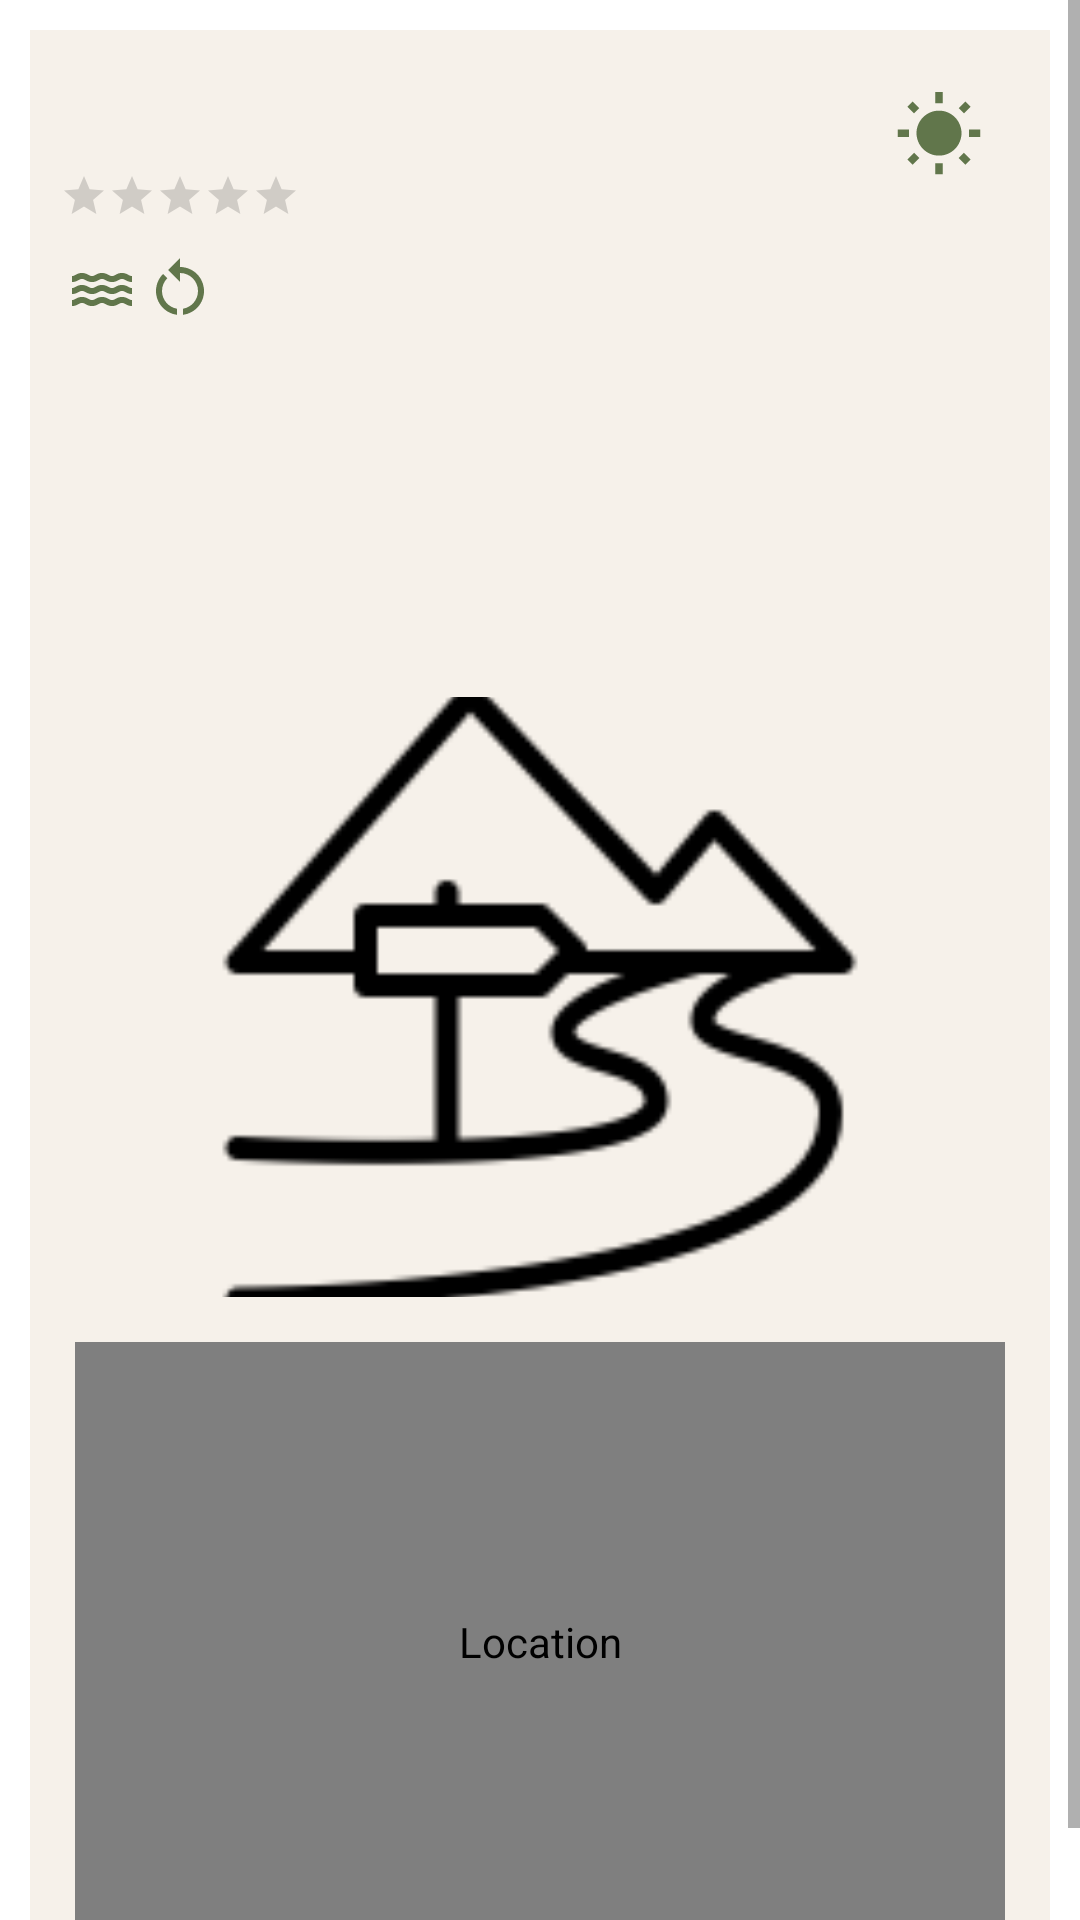

Icon bounding boxes for this 1080x1920 phone screenshot, format Rect(x1, y1, x2, y2):
restart: Rect(156, 258, 204, 315)
sunny: Rect(897, 92, 981, 175)
water: Rect(72, 273, 132, 306)
